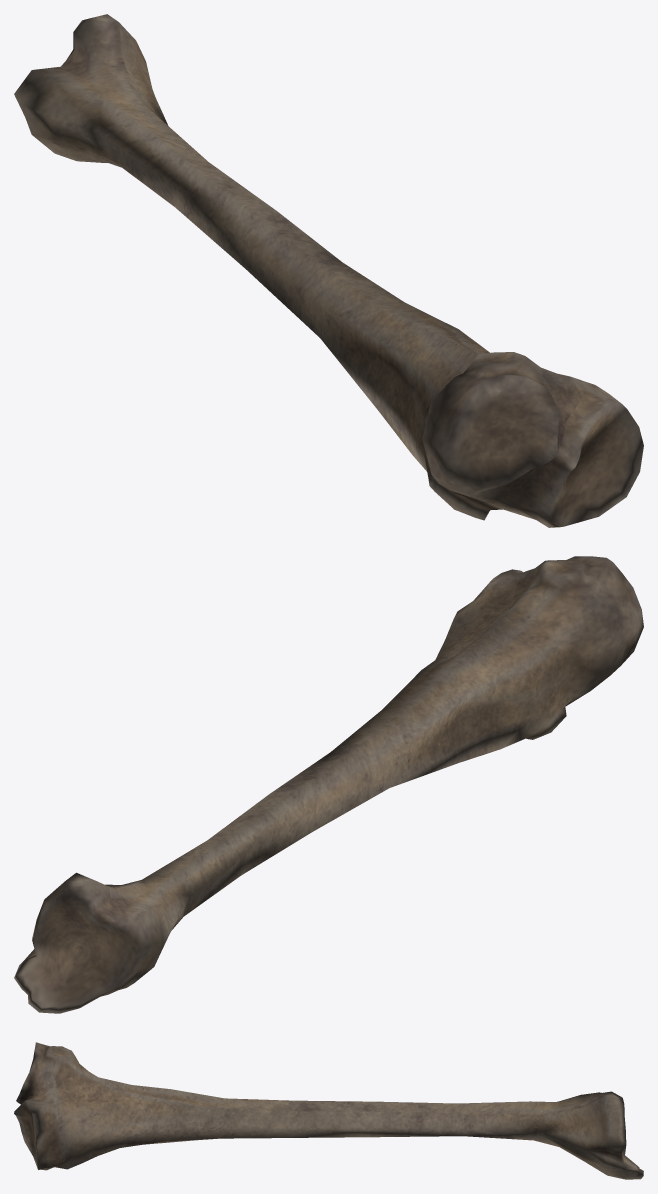
The model's file is sm_Bone_01_01.fbx.
The picture shows the model from 3 angles, top to bottom: view 1: azimuth 30°, elevation 25°; view 2: azimuth 150°, elevation 25°; view 3: azimuth 270°, elevation 25°; orthographic projection. The views are drawn at different scales.
Visible parts, largest first — view 1: sm_Bone_01_01_LOD0; view 2: sm_Bone_01_01_LOD0; view 3: sm_Bone_01_01_LOD0.
Part boxes in pixels (left/top/right/bottom): sm_Bone_01_01_LOD0: left=14, top=14, right=643, bottom=527; sm_Bone_01_01_LOD0: left=14, top=556, right=643, bottom=1013; sm_Bone_01_01_LOD0: left=14, top=1042, right=643, bottom=1179.
Size of the model in its own units: 7.3 by 32.22 by 5.96.
